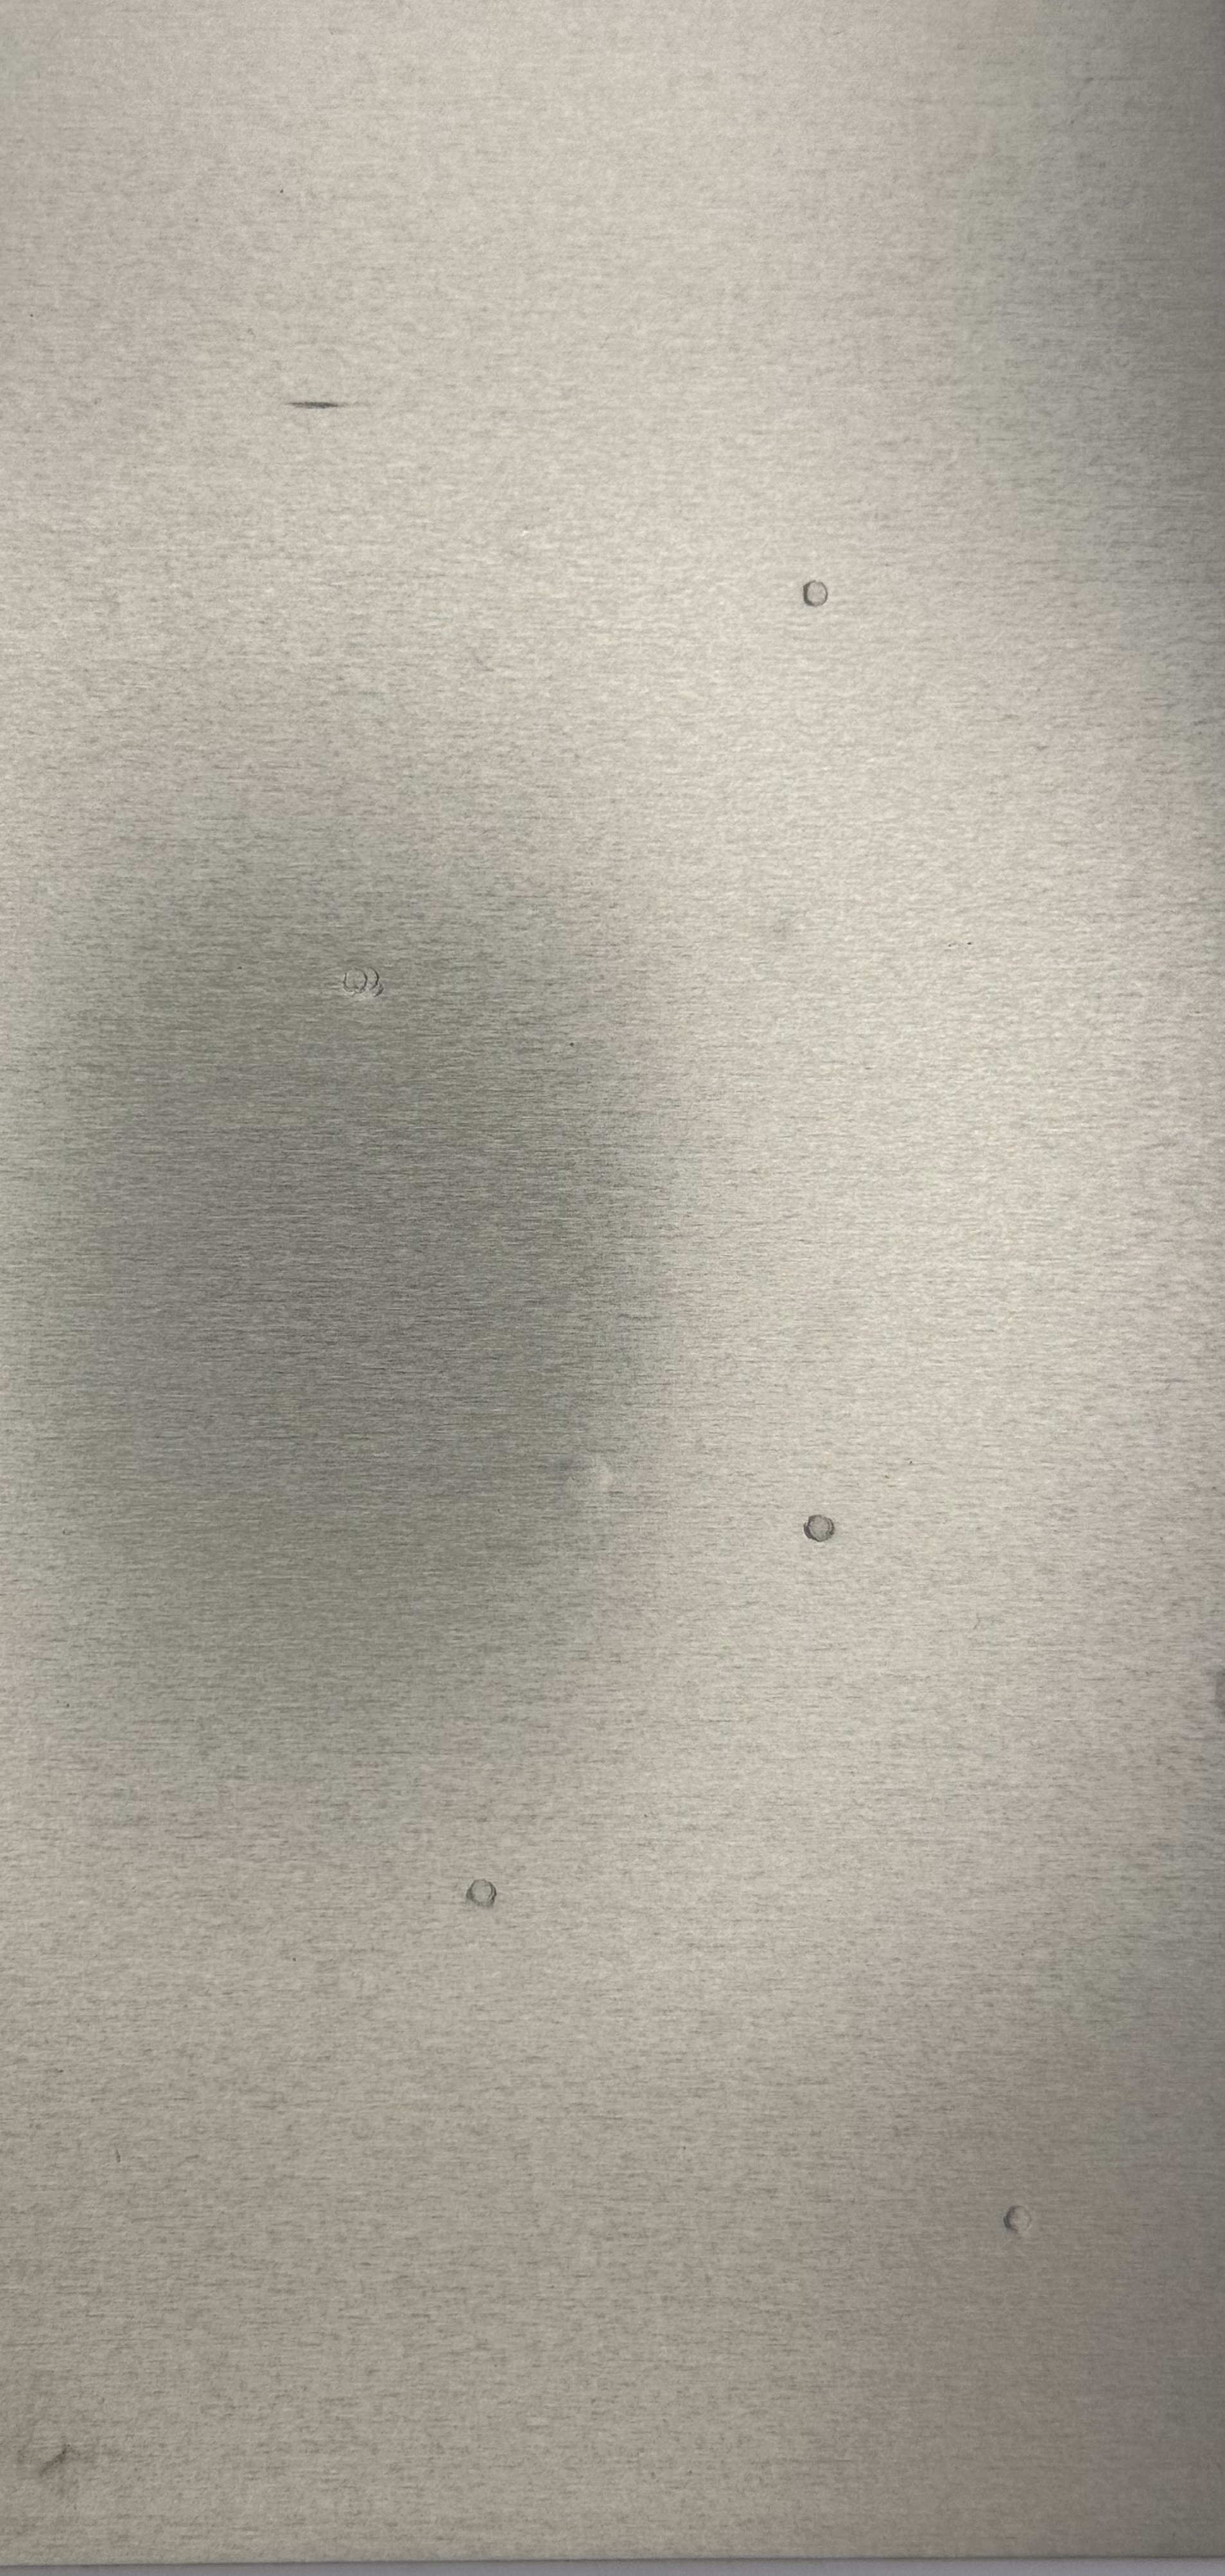Delle: (527, 1434, 652, 1529), (760, 902, 831, 973), (987, 2187, 1053, 2252), (450, 1866, 521, 1927), (787, 1497, 859, 1556), (325, 958, 399, 1009), (791, 567, 839, 619)
